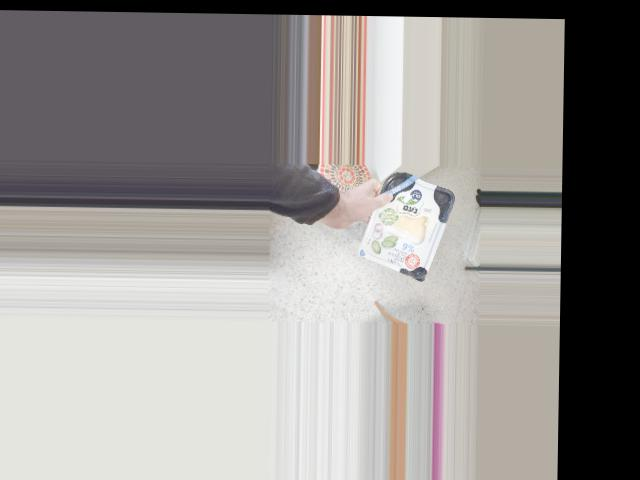cheese: (367, 183, 437, 270)
